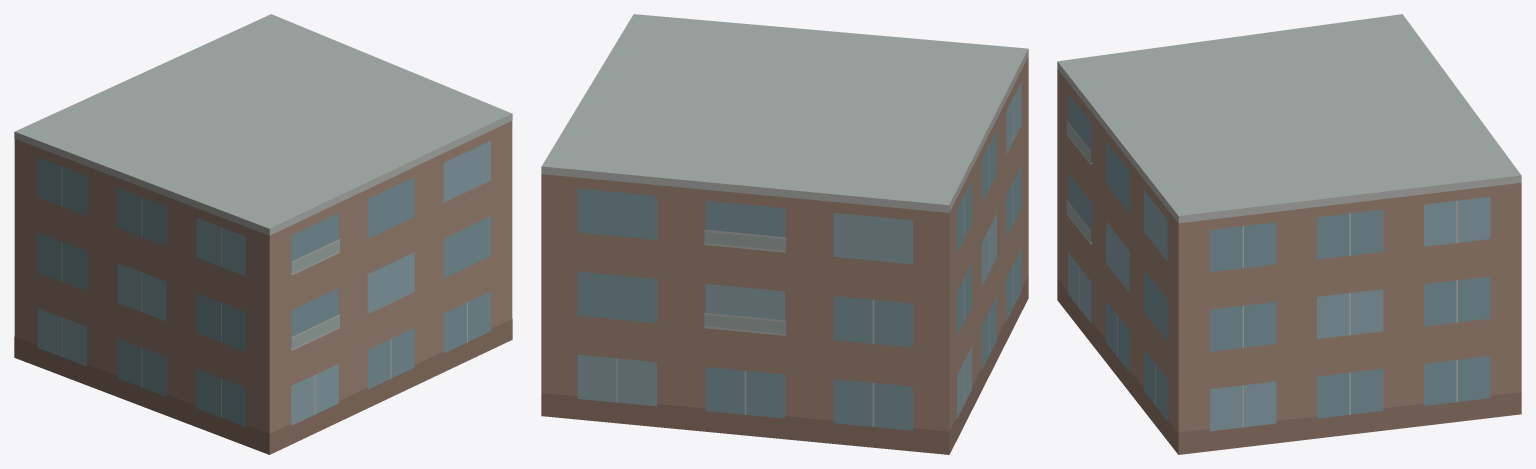
The model's file is survey-upis-32472222.glb.
3 views of the same model, side by side, from view 1: azimuth 30°, elevation 25°; view 2: azimuth 150°, elevation 25°; view 3: azimuth 270°, elevation 25° (orthographic). The views are drawn at different scales.
Parts seen in each view (by area): view 1: survey-upis-32472222.tmp; view 2: survey-upis-32472222.tmp; view 3: survey-upis-32472222.tmp.
Boxes of the visible parts, x1,y1,x2,y2 form: survey-upis-32472222.tmp: [14, 14, 512, 454]; survey-upis-32472222.tmp: [541, 14, 1028, 454]; survey-upis-32472222.tmp: [1057, 14, 1521, 454].
Bounding box in the file's own units: 14.48 × 7.97 × 14.06.
